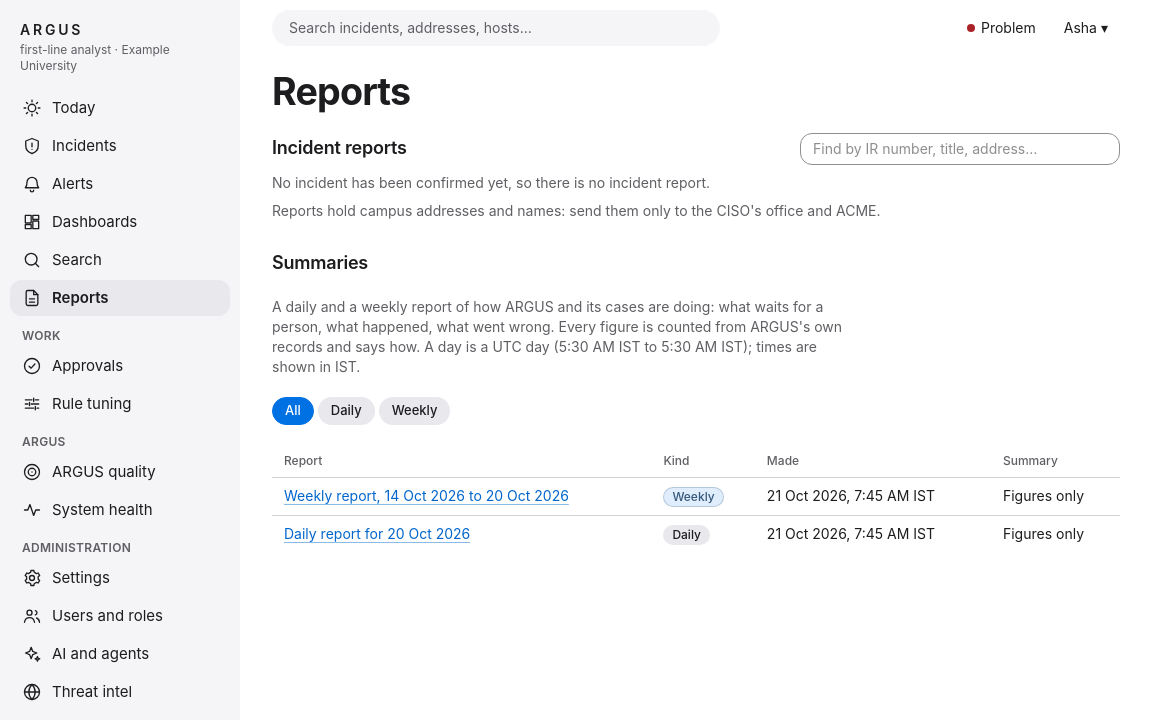
Test: the list › names each report by the days it covers, with when it was made, and asks the server for one kind
Expected: the text "21 Oct 2026, 7:45 AM IST" is shown 2 times, [767, 487, 935, 504]; [767, 525, 935, 542]
What coordinates should you click on to do the following:
click the button "Weekly"
I would click on:
 (415, 411)
Its box is [379, 397, 450, 425].
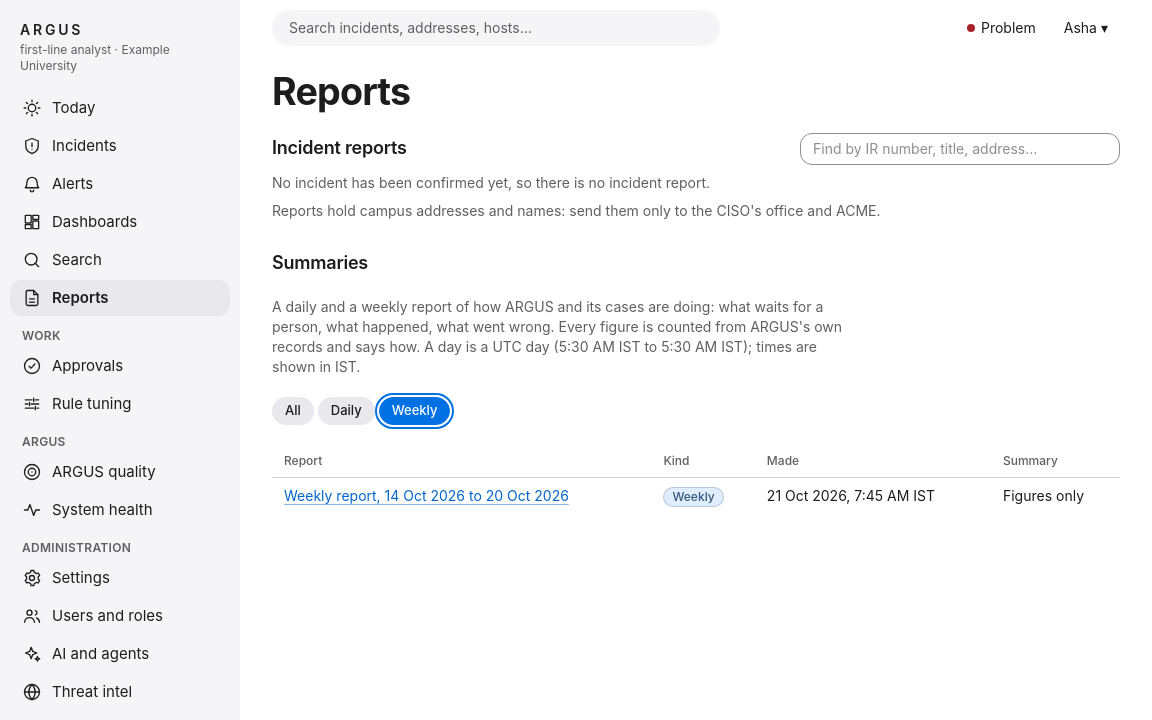
What coordinates should you click on to do the following:
click the button "Daily"
I would click on:
 (346, 411)
Its box is [318, 397, 375, 425].
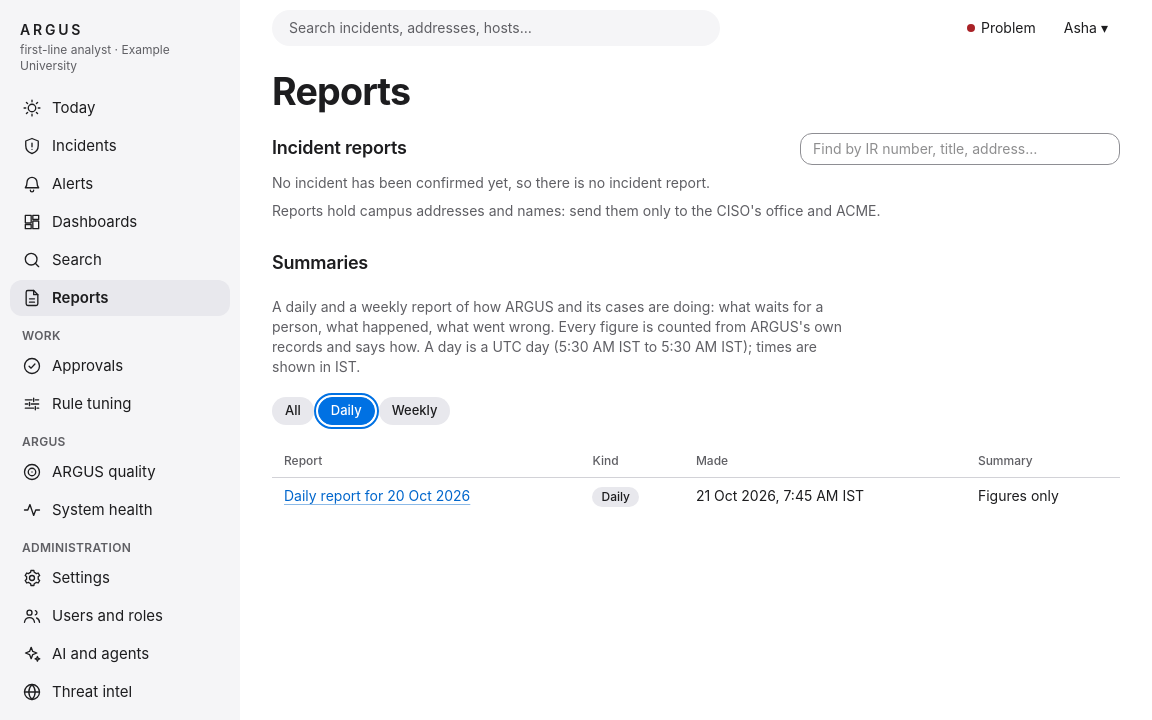
Result: the links read "Daily report for 20 Oct 2026", in this order at [284, 487, 470, 504]
